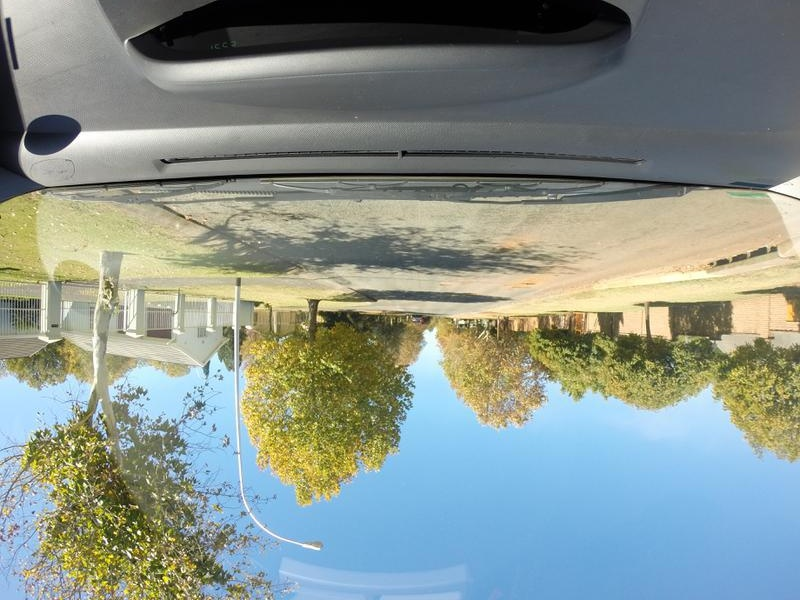pothole: (521, 280, 538, 288)
